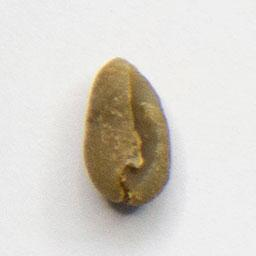peaberry: (80, 52, 175, 211)
